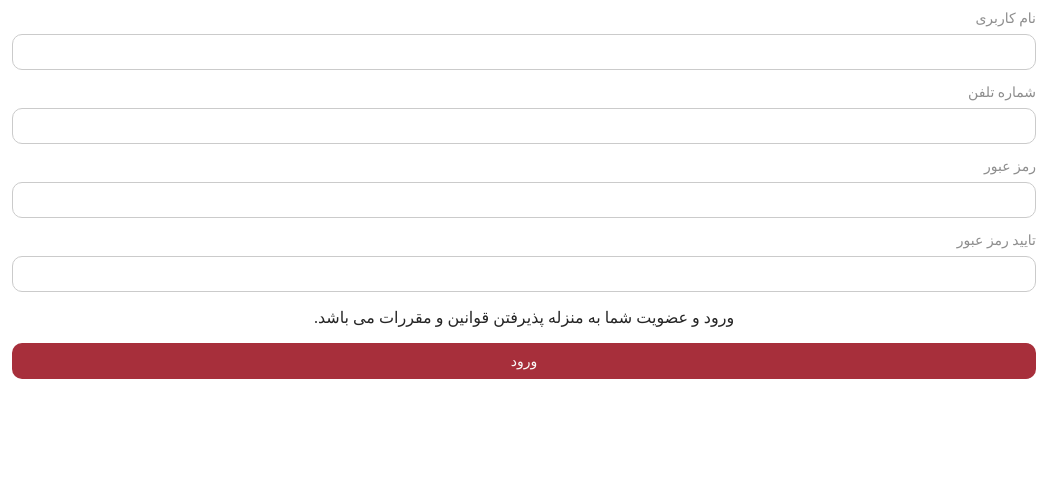
LoginForm › shows validation errors on submit with empty fields
This screenshot has width=1048, height=504.
Click the button "ورود". click: (524, 361)
box: [12,343,1036,379]
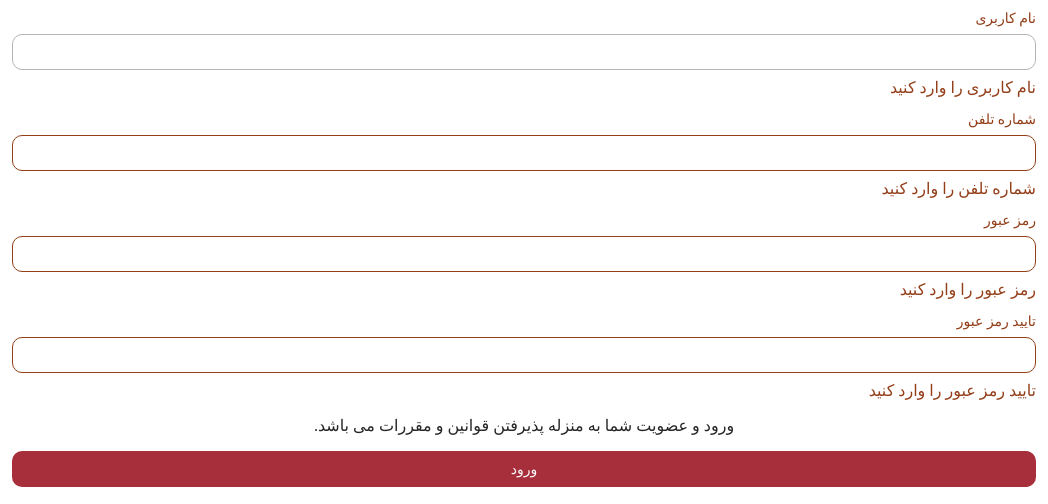
Check: the text "نام کاربری را وارد کنید" is shown, box [890,79,1036,96]
Check: the text "شماره تلفن را وارد کنید" is shown, box [882,180,1036,197]
Check: the text "رمز عبور را وارد کنید" is shown, box [900,281,1036,298]
